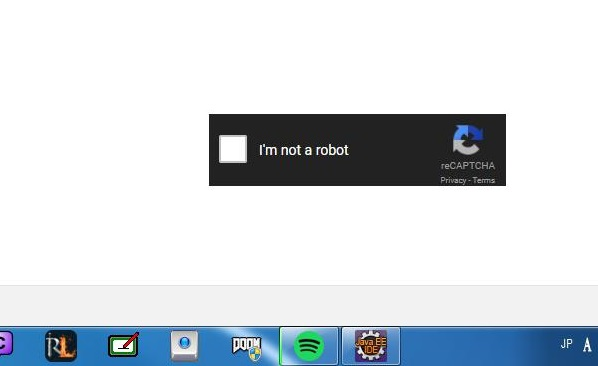captcha: (218, 135, 350, 163)
